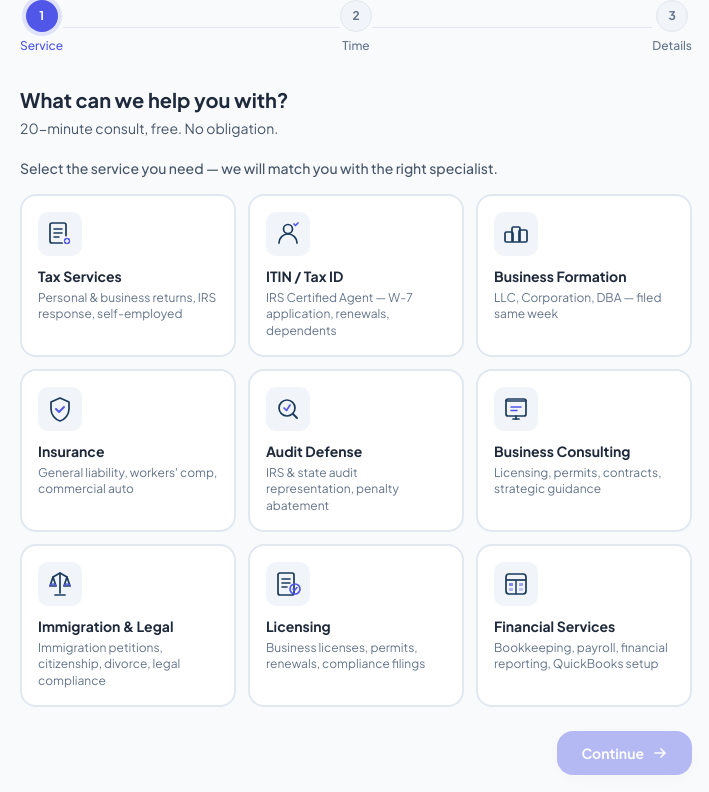
Scenario: BookingFlow › enables Continue button after selecting a service
Click the text "Tax Services": [80, 276] box left=38, top=267, right=122, bottom=285
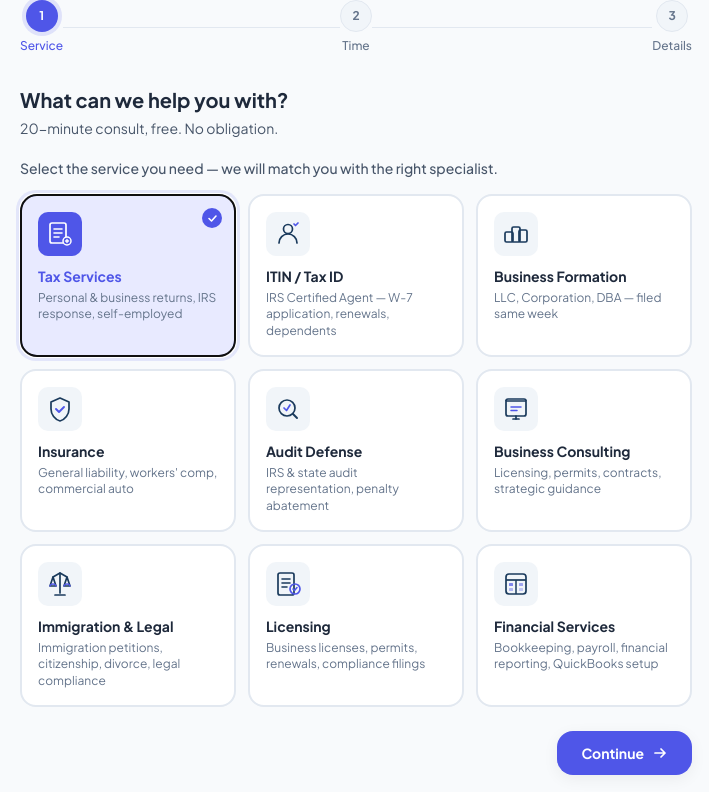
Check: the button "Continue" is enabled, box left=557, top=731, right=692, bottom=775
